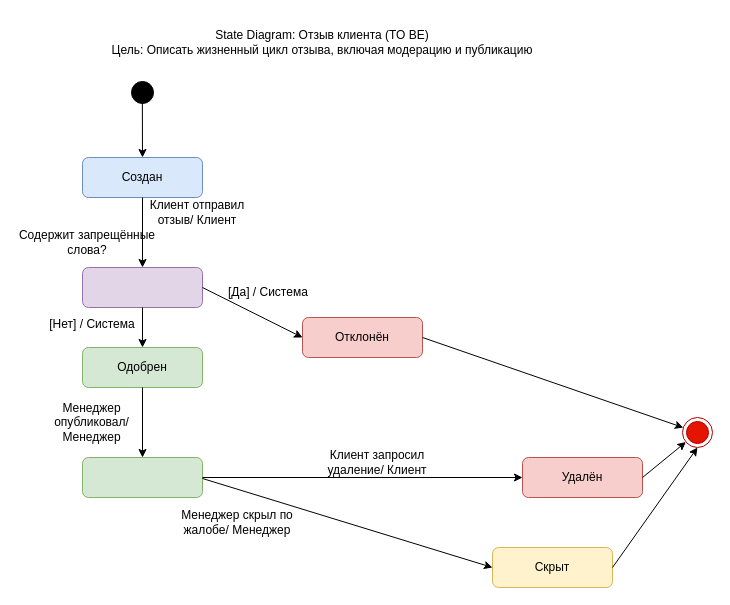
The diagram is 730 pixels wide and 605 high, and some of its shapes have lost their labels. Each missing label, with the box of its shape:
На модерации: (82, 266, 202, 308)
Опубликован: (82, 456, 202, 498)
